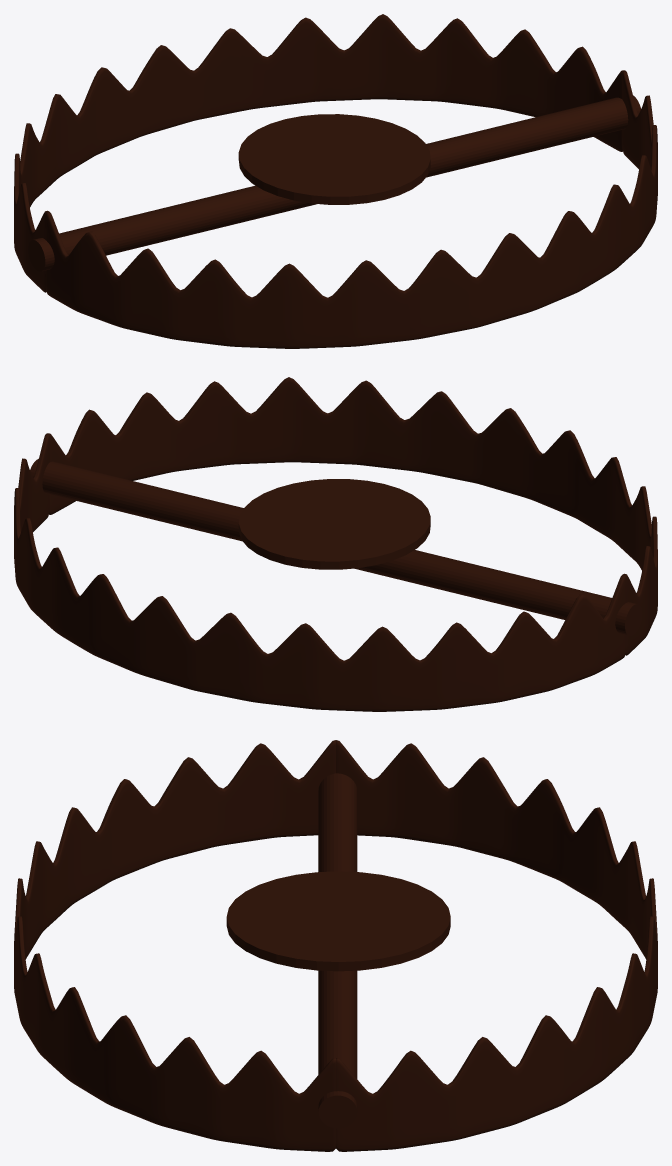
Rendered from WoodenBearTrap.obj.
The picture shows the model from 3 angles, top to bottom: view 1: azimuth 30°, elevation 25°; view 2: azimuth 150°, elevation 25°; view 3: azimuth 270°, elevation 25°; orthographic projection. The views are drawn at different scales.
Parts seen in each view (by area): view 1: Cube.001_Material.001, Cube_Material.001, Cylinder_Material.001, Cylinder.001_Material.001; view 2: Cube_Material.001, Cube.001_Material.001, Cylinder_Material.001, Cylinder.001_Material.001; view 3: Cube.001_Material.001, Cube_Material.001, Cylinder.001_Material.001, Cylinder_Material.001.
Boxes of the visible parts, x1,y1,x2,y2 form: Cube.001_Material.001: [45, 70, 657, 348]; Cube_Material.001: [14, 14, 624, 292]; Cylinder_Material.001: [28, 95, 640, 271]; Cylinder.001_Material.001: [238, 114, 430, 204]; Cube_Material.001: [14, 433, 626, 711]; Cube.001_Material.001: [47, 377, 657, 655]; Cylinder_Material.001: [30, 458, 642, 635]; Cylinder.001_Material.001: [238, 479, 430, 569]; Cube.001_Material.001: [14, 740, 335, 1151]; Cube_Material.001: [336, 740, 657, 1151]; Cylinder.001_Material.001: [226, 871, 450, 971]; Cylinder_Material.001: [318, 773, 357, 1128].
Size of the model in its own units: 1.33 by 0.1797 by 1.1.
